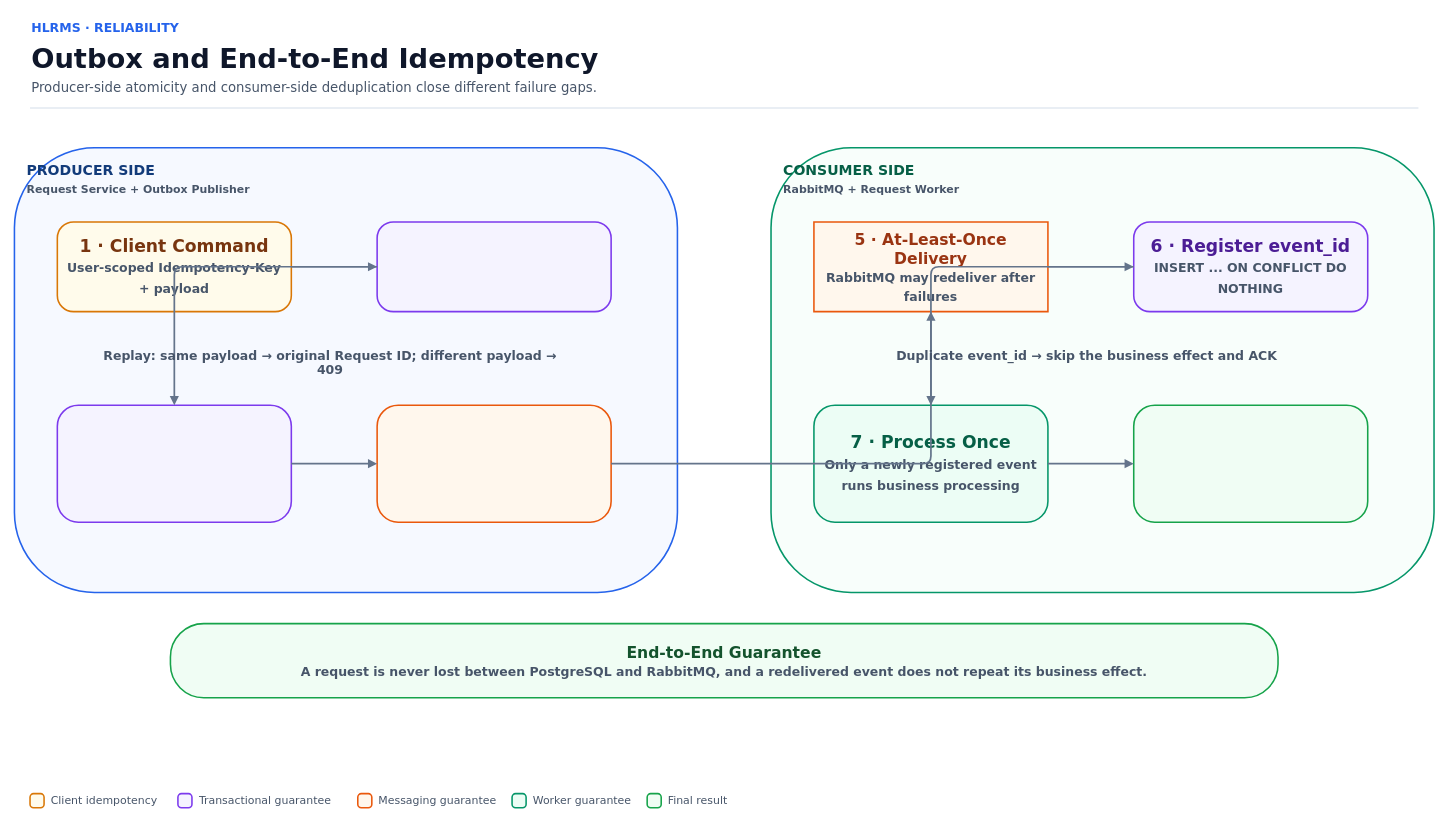
Image size: 1448x825. Some labels were removed from this diagram. The centre of each missing label's shape, as x and y in pixels:
"2 · Distributed Coordination Redis lock / replay cache with DB fallback" goes at (494,266).
"3 · Single DB Transaction INSERT request INSERT outbox event" goes at (174,463).
"4 · Outbox Publisher Claim · publish · confirm · mark PUBLISHED" goes at (494,463).
"8 · Commit Outcome Final request state + processed_at + ACK" goes at (1250,463).
